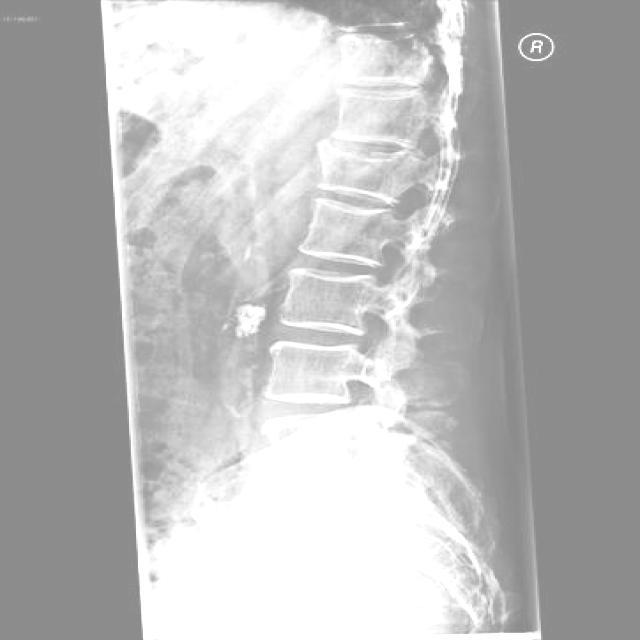Compression-Crush Fracutre: (304, 132, 434, 204)
